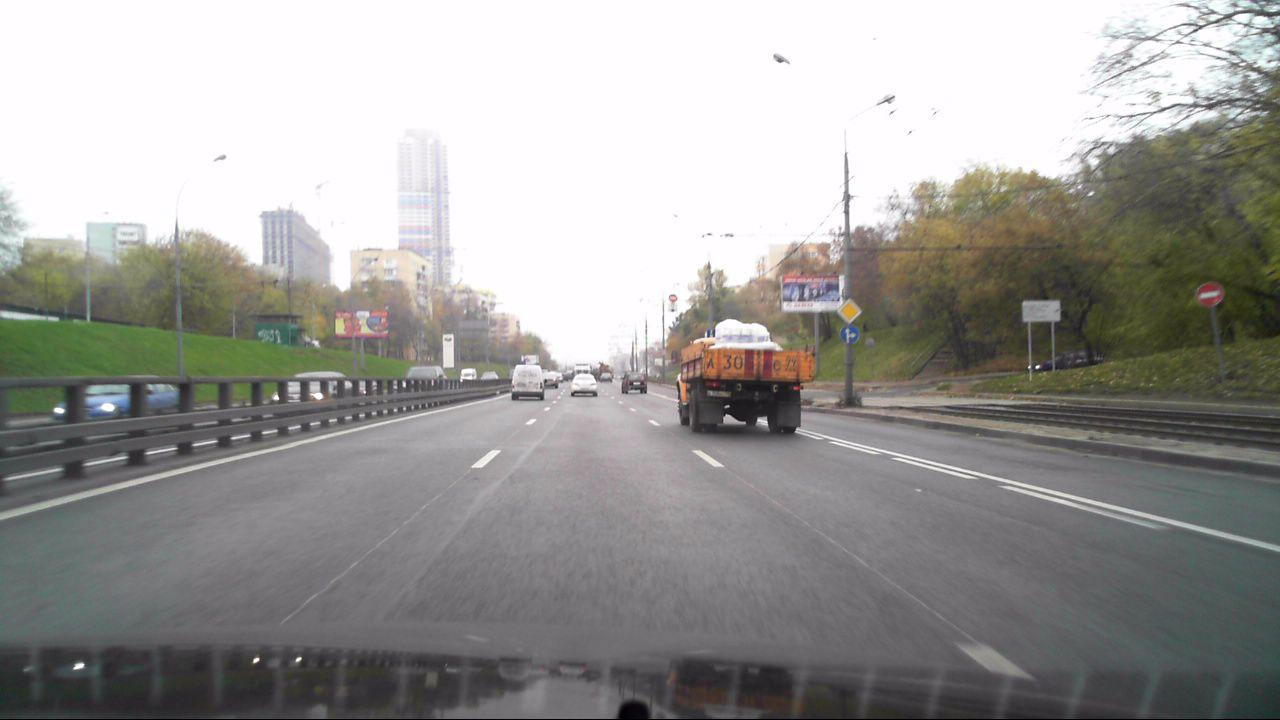obstructed_road_sign: (1198, 281, 1226, 306)
road_sign: (834, 295, 865, 326), (839, 323, 859, 345)
